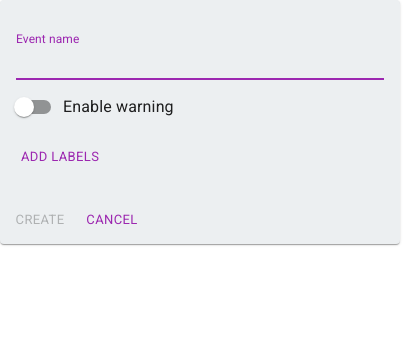
Test: EditEventCard › Warning threshold › shows/hides threshold form based on switch state
Enable warning threshold
Click the switch labelled "Enable warning". click: (94, 107)
box: [14,97,174,117]
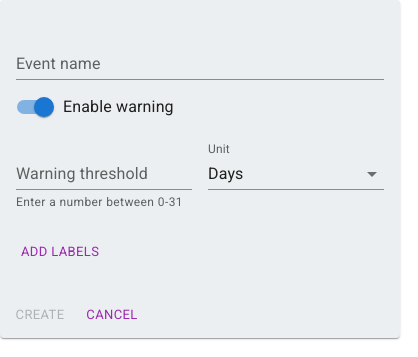
Check: the number field named "Warning threshold number" is shown, box [16,158,192,190]
Check: the dropdown named "Warning threshold time unit" is shown, box [208,164,244,183]
